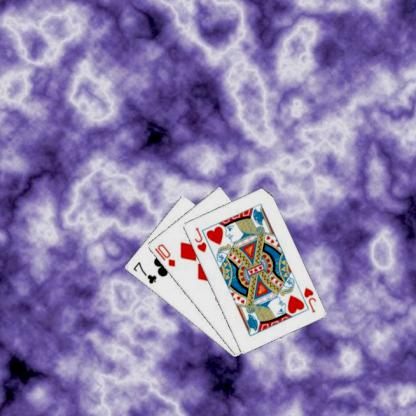10D: (152, 241, 176, 269)
7C: (130, 259, 158, 285)
JH: (192, 224, 208, 254), (301, 284, 317, 314)
